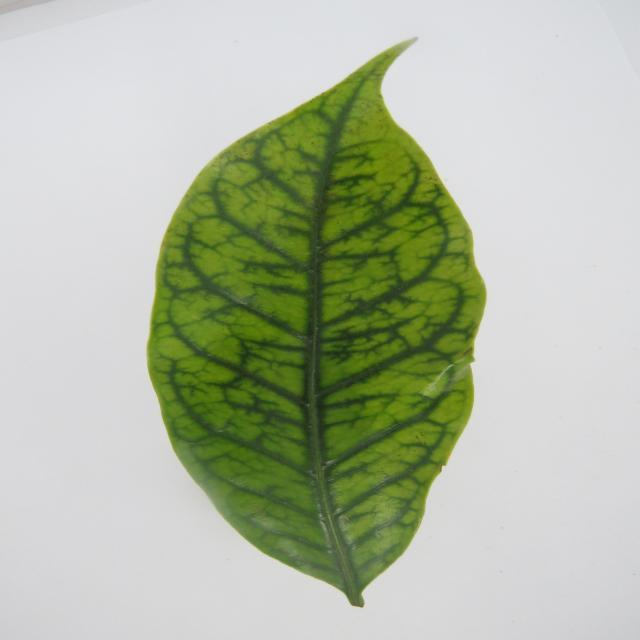DeficienciaNutricional-Magnesio: (148, 40, 485, 606)
